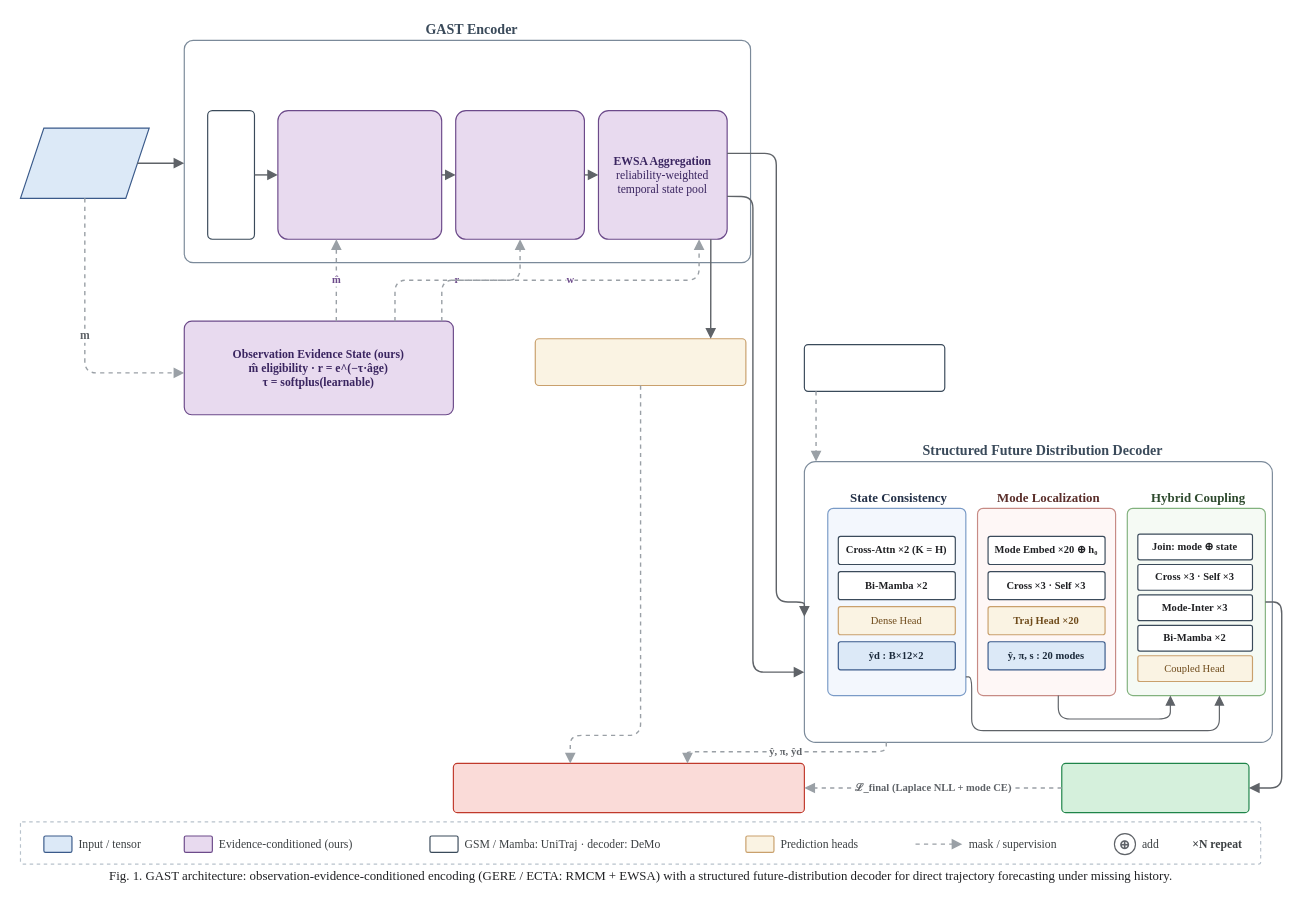
Image size: 1313x904. Some labels were removed from this diagram. Here are the shapes that lost their labels. From the top down, the centre of each, then its label:
At pixel 84 162: "Masked history X̃ Δp · |v| · m B×N×8×4".
At pixel 230 174: "Patch Embed".
At pixel 359 174: "GERE Spatial Attn ghost token · MHA ×8 geometry bias · FFN".
At pixel 519 174: "RMCM Causal Mamba ×4 gated by r".
At pixel 640 362: "Neighbour Prediction Head (aux)".
At pixel 874 367: "Time Embedding t = Δt … 12Δt".
At pixel 628 787: "Training Objectives".
At pixel 1155 787: "Multimodal forecast Ŷ, Π, Σ · B×20×12×2".
